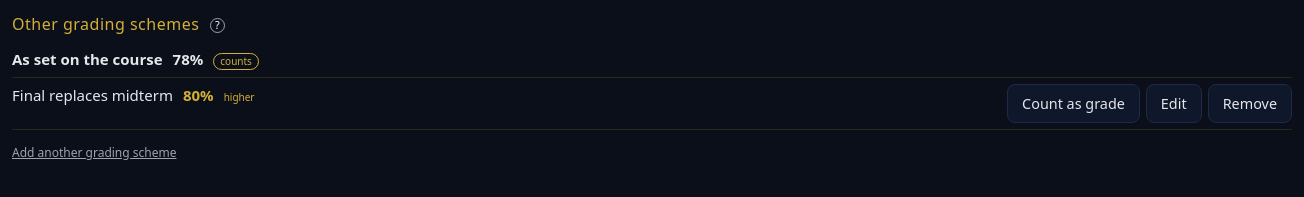
GradingSchemes › says when switching failed
Click the button "Count as grade" at point(1074, 103), box [1007,84,1140,123]
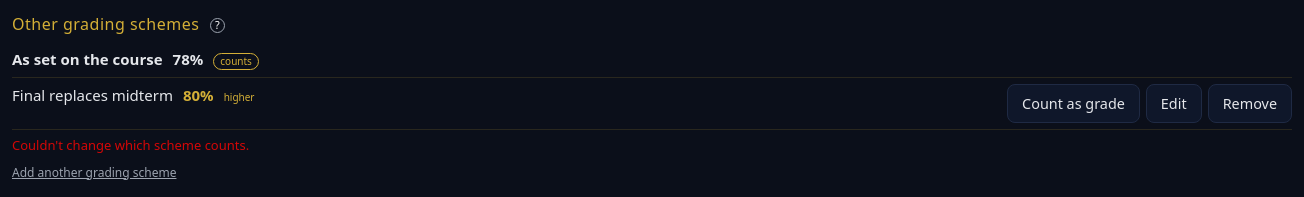
Now the message shows "Couldn't change which scheme counts", box [12,136,249,154]
